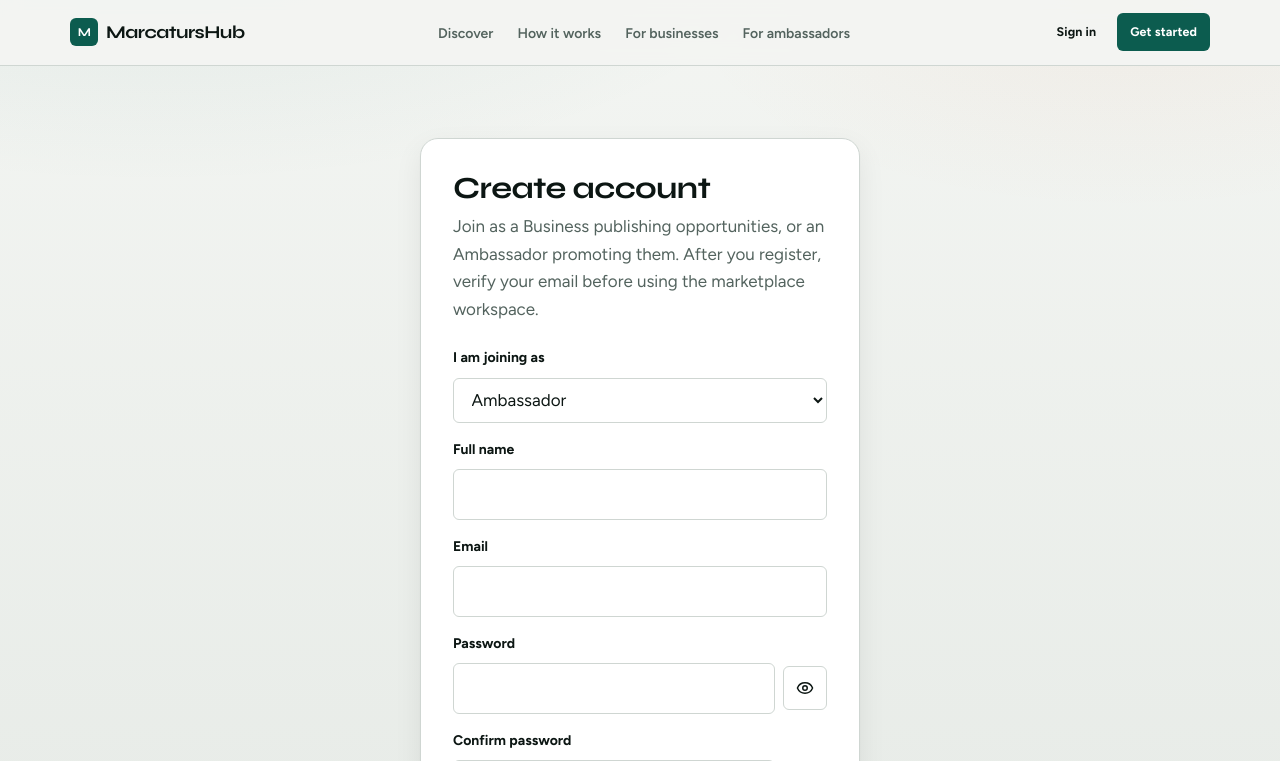
Test: password visibility › toggles the registration password and confirmation independently
The width and height of the screenshot is (1280, 761).
Type "Secret123!" into the password field labelled "Password" at (614,688), box [453,663,775,714]
(page scrolled)
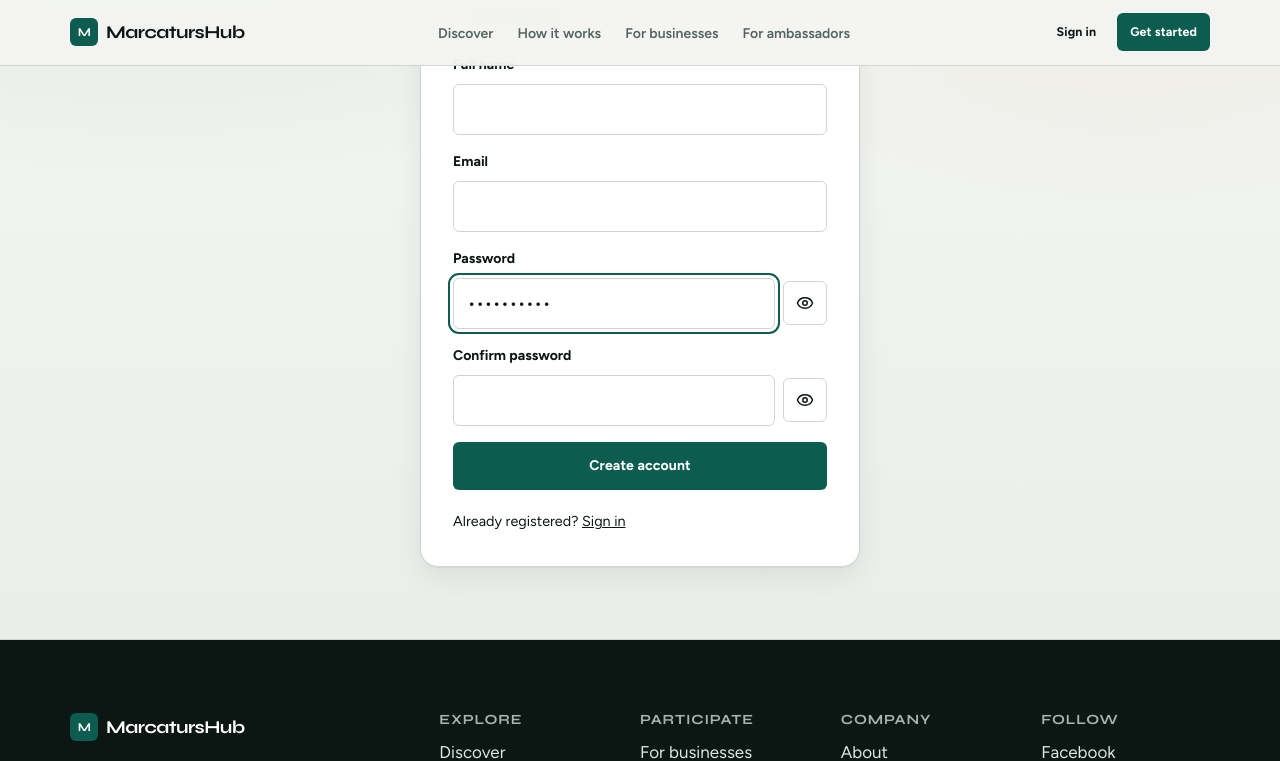
Type "Other123!" into the password field labelled "Confirm password" at (614,400), box [453,375,775,426]
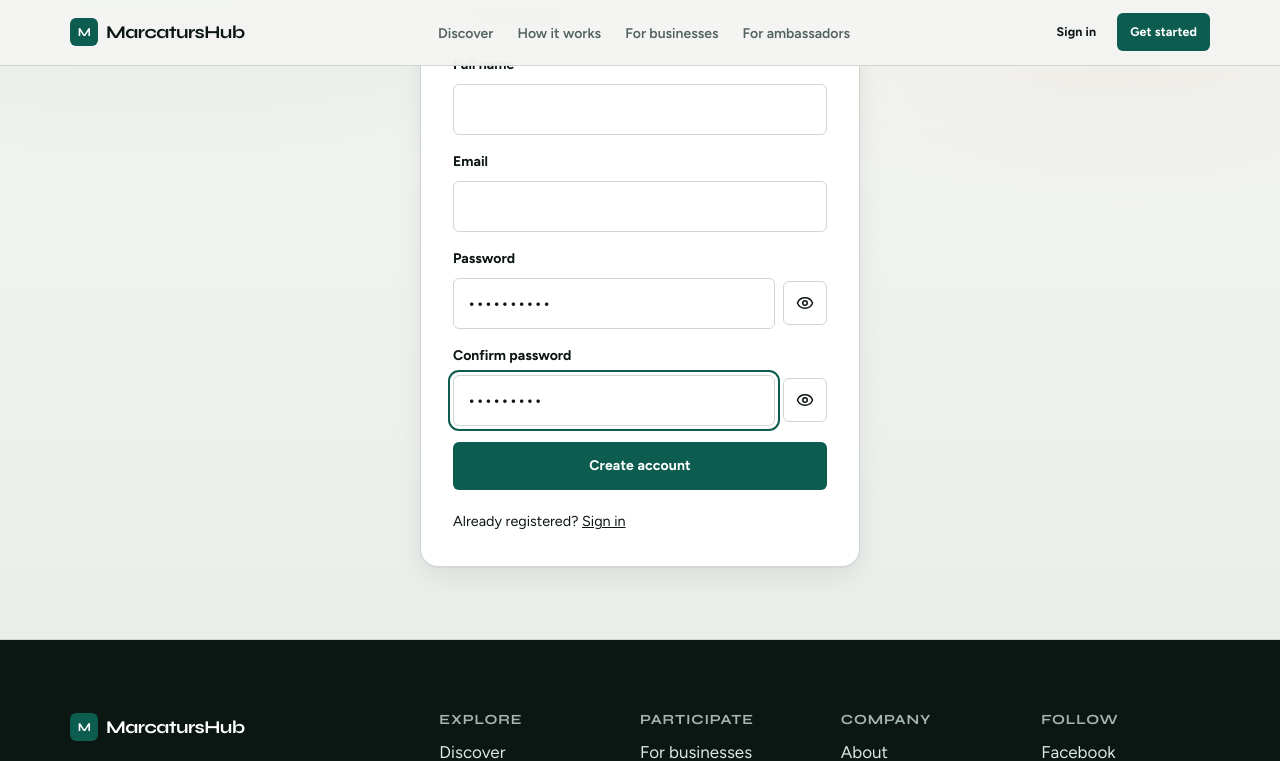
Click the button named "Show password" at (805,303), box [783,281,827,325]
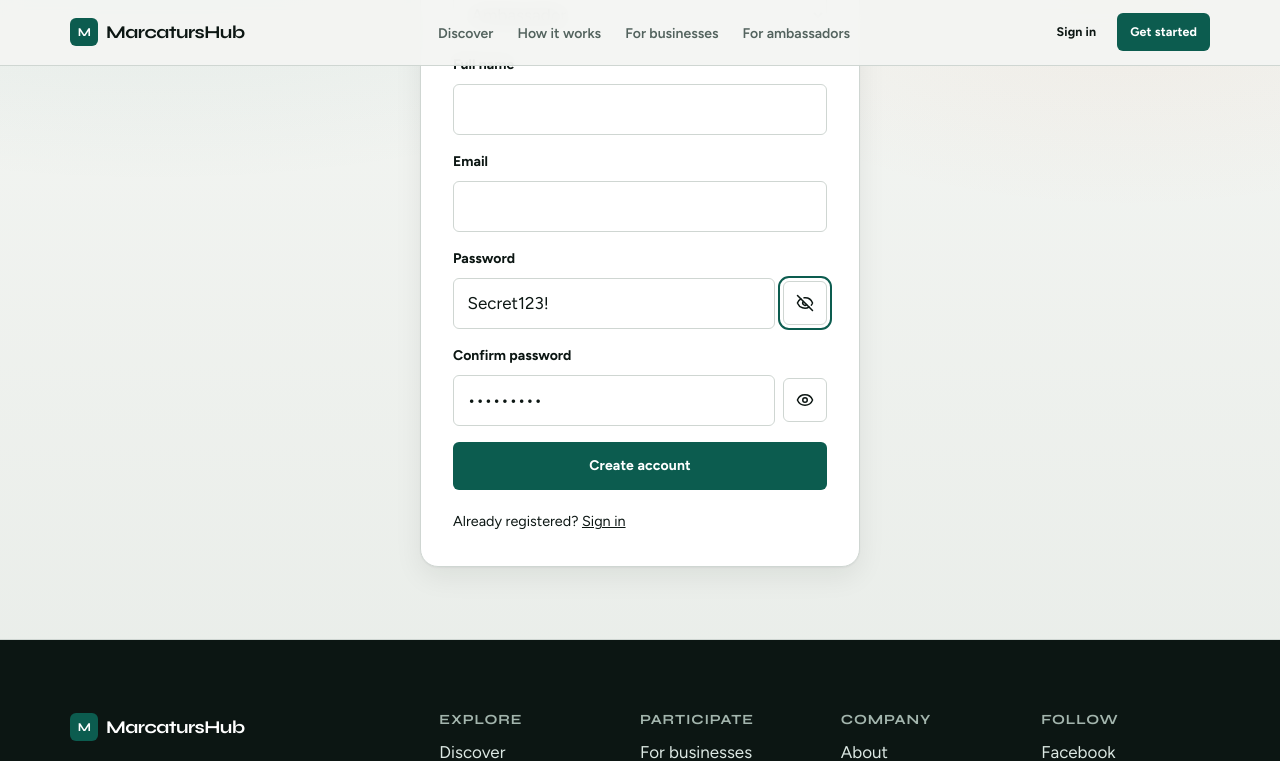
expect the field labelled "Password" shows its text: met, box [453,278,775,328]
Click the button named "Show confirm password" at (805,400), box [783,378,827,422]
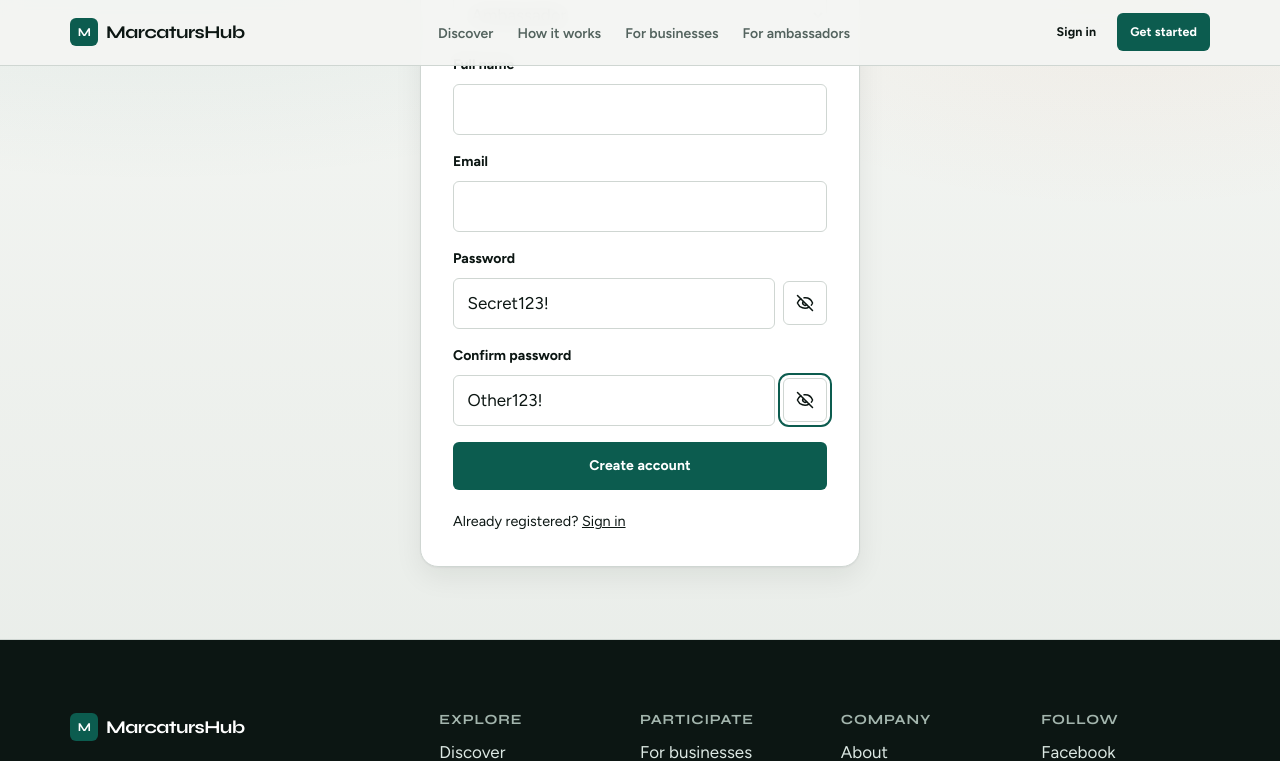
expect the field labelled "Password" shows its text: met, box [453,278,775,328]
expect the field labelled "Confirm password" shows its text: met, box [453,375,775,426]
Click the button named "Hide password" at (805,303), box [783,281,827,325]
(page scrolled)
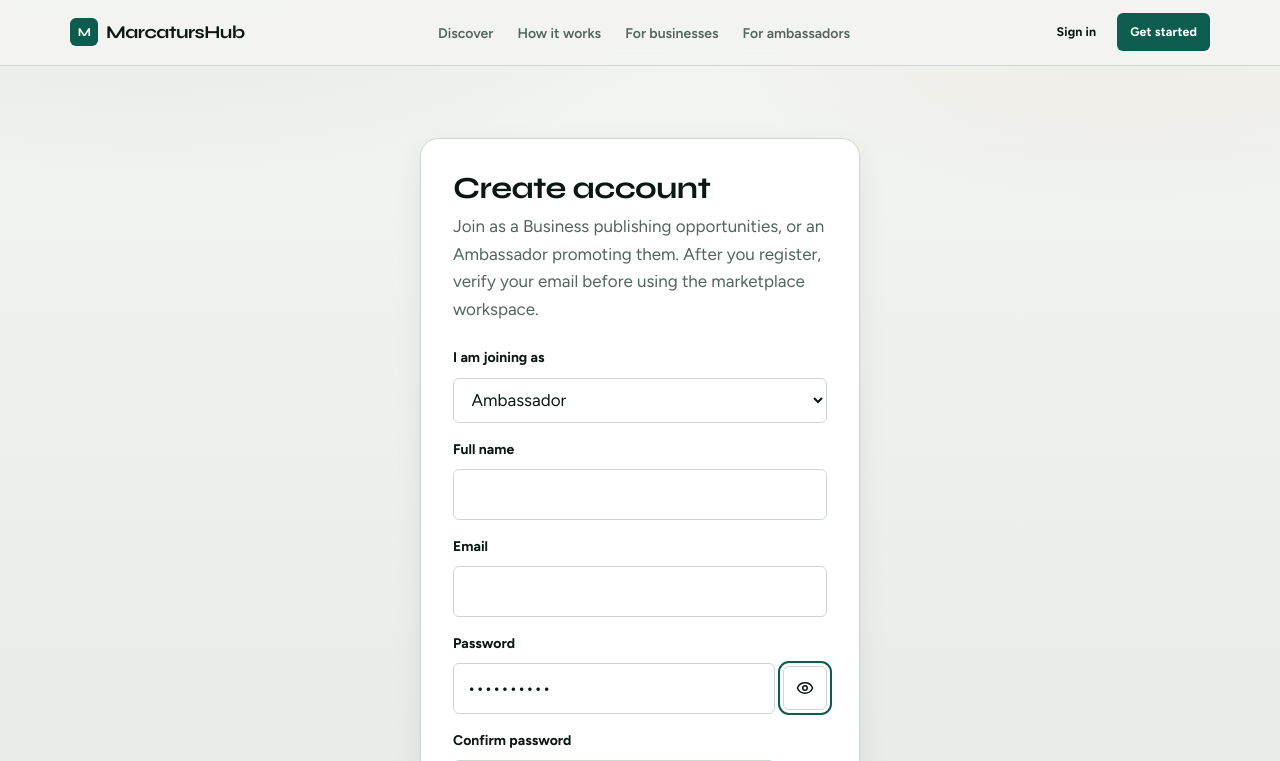
expect the heading "Create account" is shown: met, box [453,170,710,206]
expect the password field labelled "Password" hides its text: met, box [453,663,775,714]
